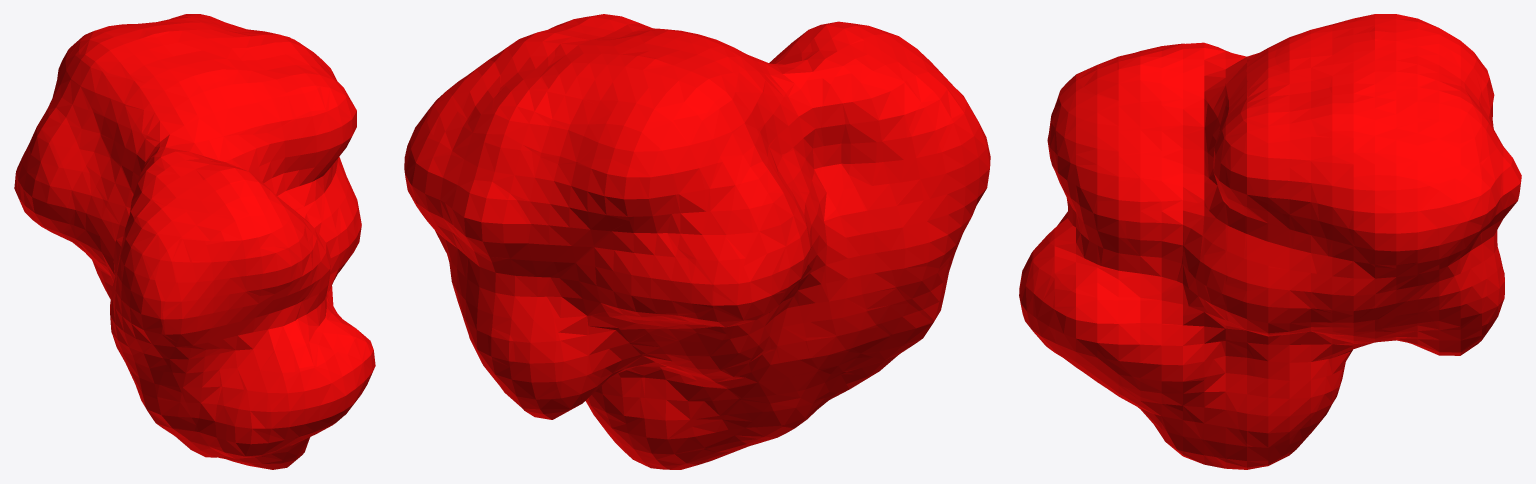
File: evgA_coarse.dae
3 views of the same model, side by side, from view 1: azimuth 30°, elevation 25°; view 2: azimuth 150°, elevation 25°; view 3: azimuth 270°, elevation 25° (orthographic). The views are drawn at different scales.
Parts seen in each view (by area): view 1: evgA; view 2: evgA; view 3: evgA.
Part boxes in pixels (left/top/right/bottom): evgA: left=14, top=14, right=375, bottom=469; evgA: left=404, top=14, right=990, bottom=469; evgA: left=1019, top=14, right=1521, bottom=469.
Size of the model in its own units: 43.09 by 48.36 by 53.58.
